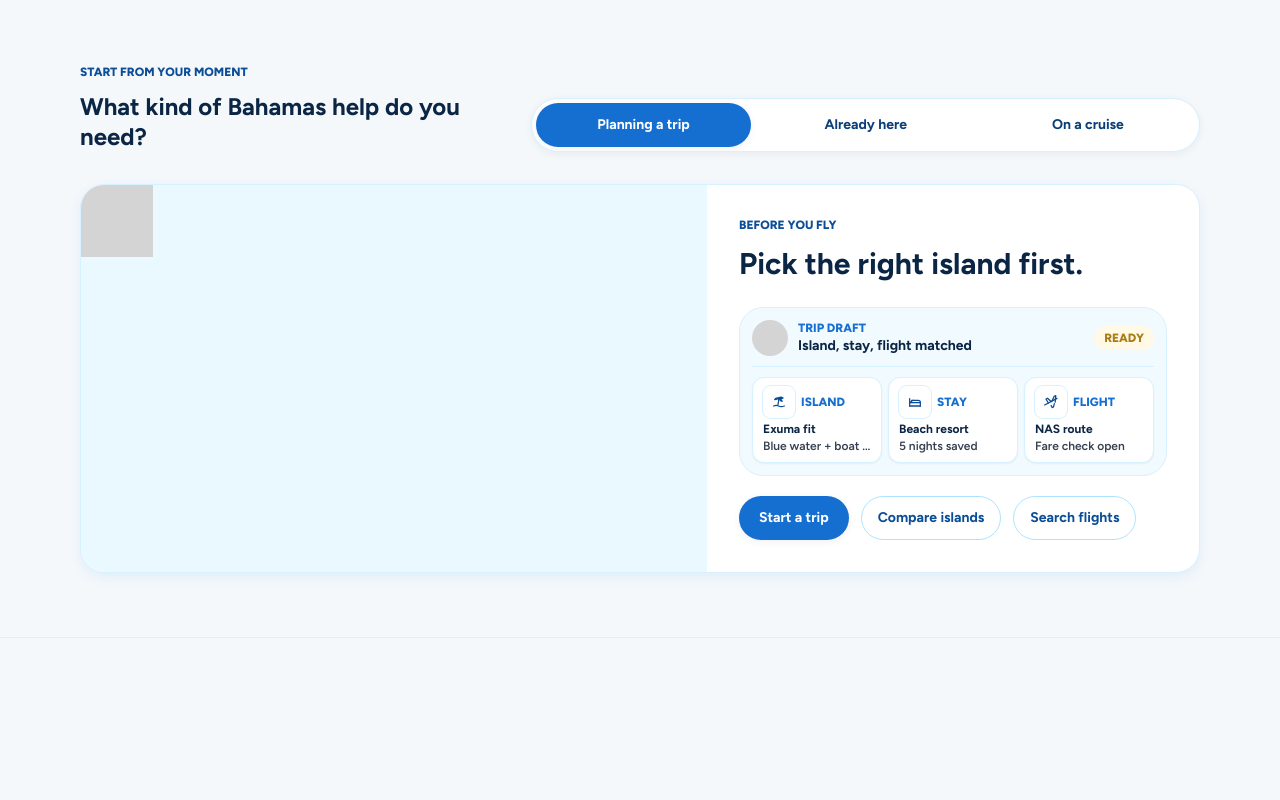
Scenario: TravelerModeTabs › switches to cruise-day actions
Click the tab "On a cruise": (1088, 125) [981,103,1195,147]
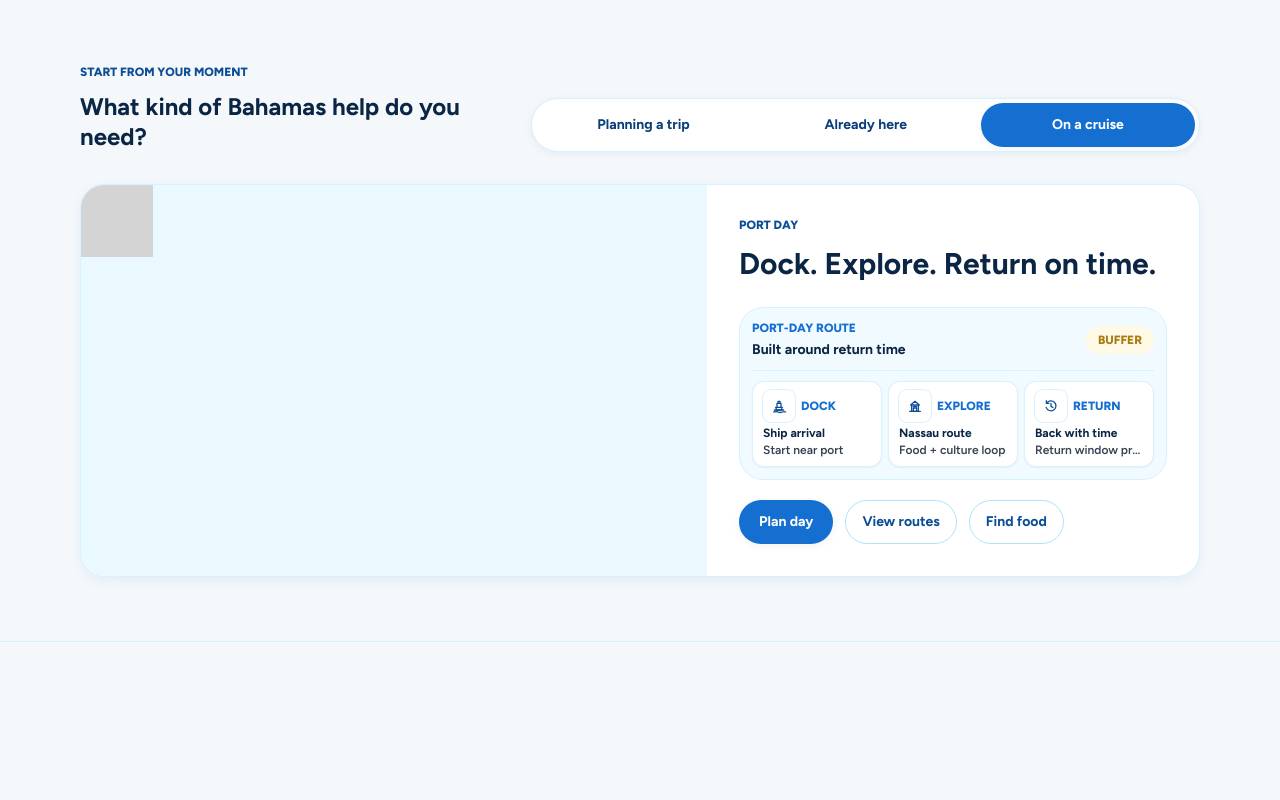
Now the heading "Dock. Explore. Return on time." is shown, box [739,245,1167,282]
Now the text "Dock" is shown, box [801,398,836,414]
Now the text "Nassau route" is shown, box [899,426,972,440]
